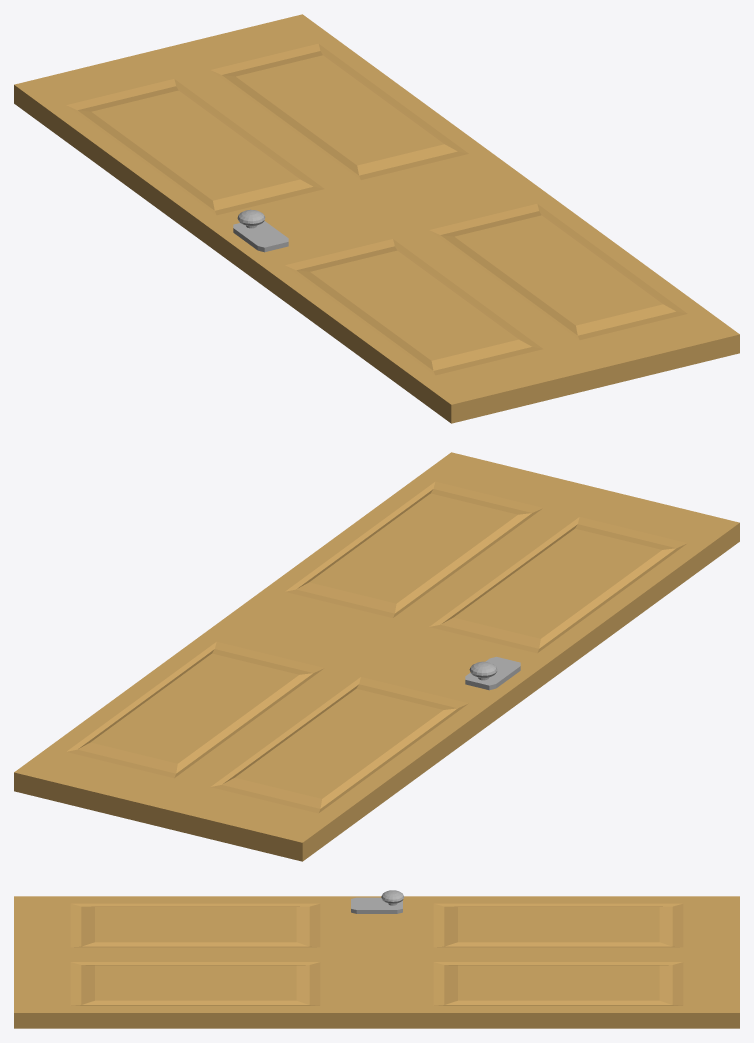
The model's file is DoorSmall.fbx.
3 views of the same model, one above another, from view 1: azimuth 30°, elevation 25°; view 2: azimuth 150°, elevation 25°; view 3: azimuth 270°, elevation 25° (orthographic). The views are drawn at different scales.
Parts seen in each view (by area): view 1: Cube; view 2: Cube; view 3: Cube.
Boxes of the visible parts, box(x1,y1,x2,y2) form: Cube: box(14, 14, 739, 423); Cube: box(14, 452, 739, 861); Cube: box(14, 890, 739, 1028).
Size of the model in its own units: 80 by 15.31 by 210.
